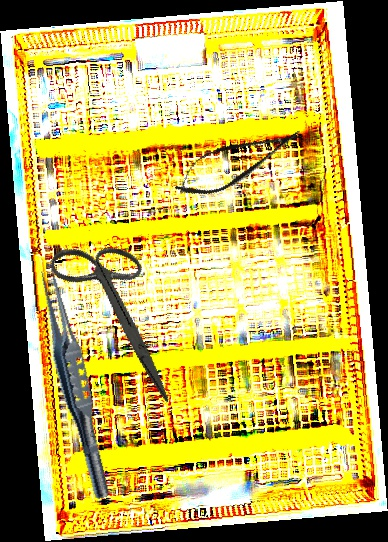Iris Scissors: (17, 221, 222, 404)
Micro Scissor: (167, 113, 310, 209)
Tissue Forceps: (29, 264, 121, 502)
